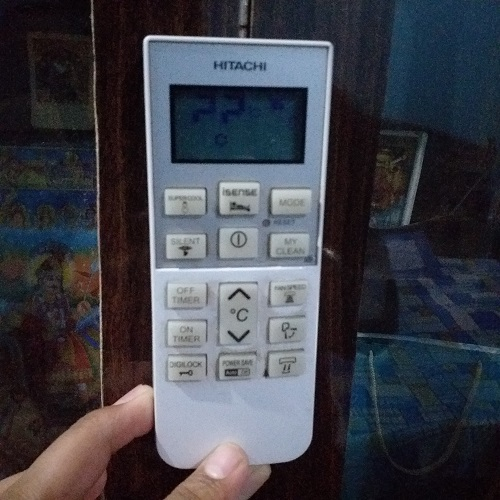remote: (122, 24, 333, 472)
